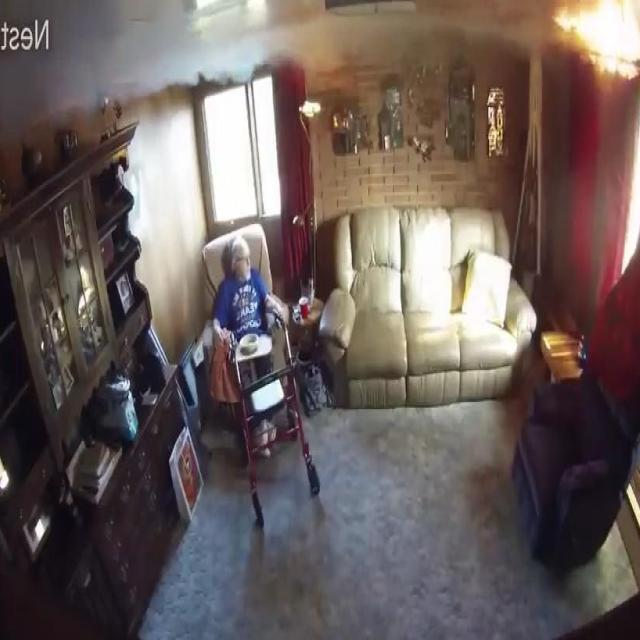fire: (0, 13, 269, 140), (280, 0, 543, 86)
smoke: (553, 1, 640, 81)
